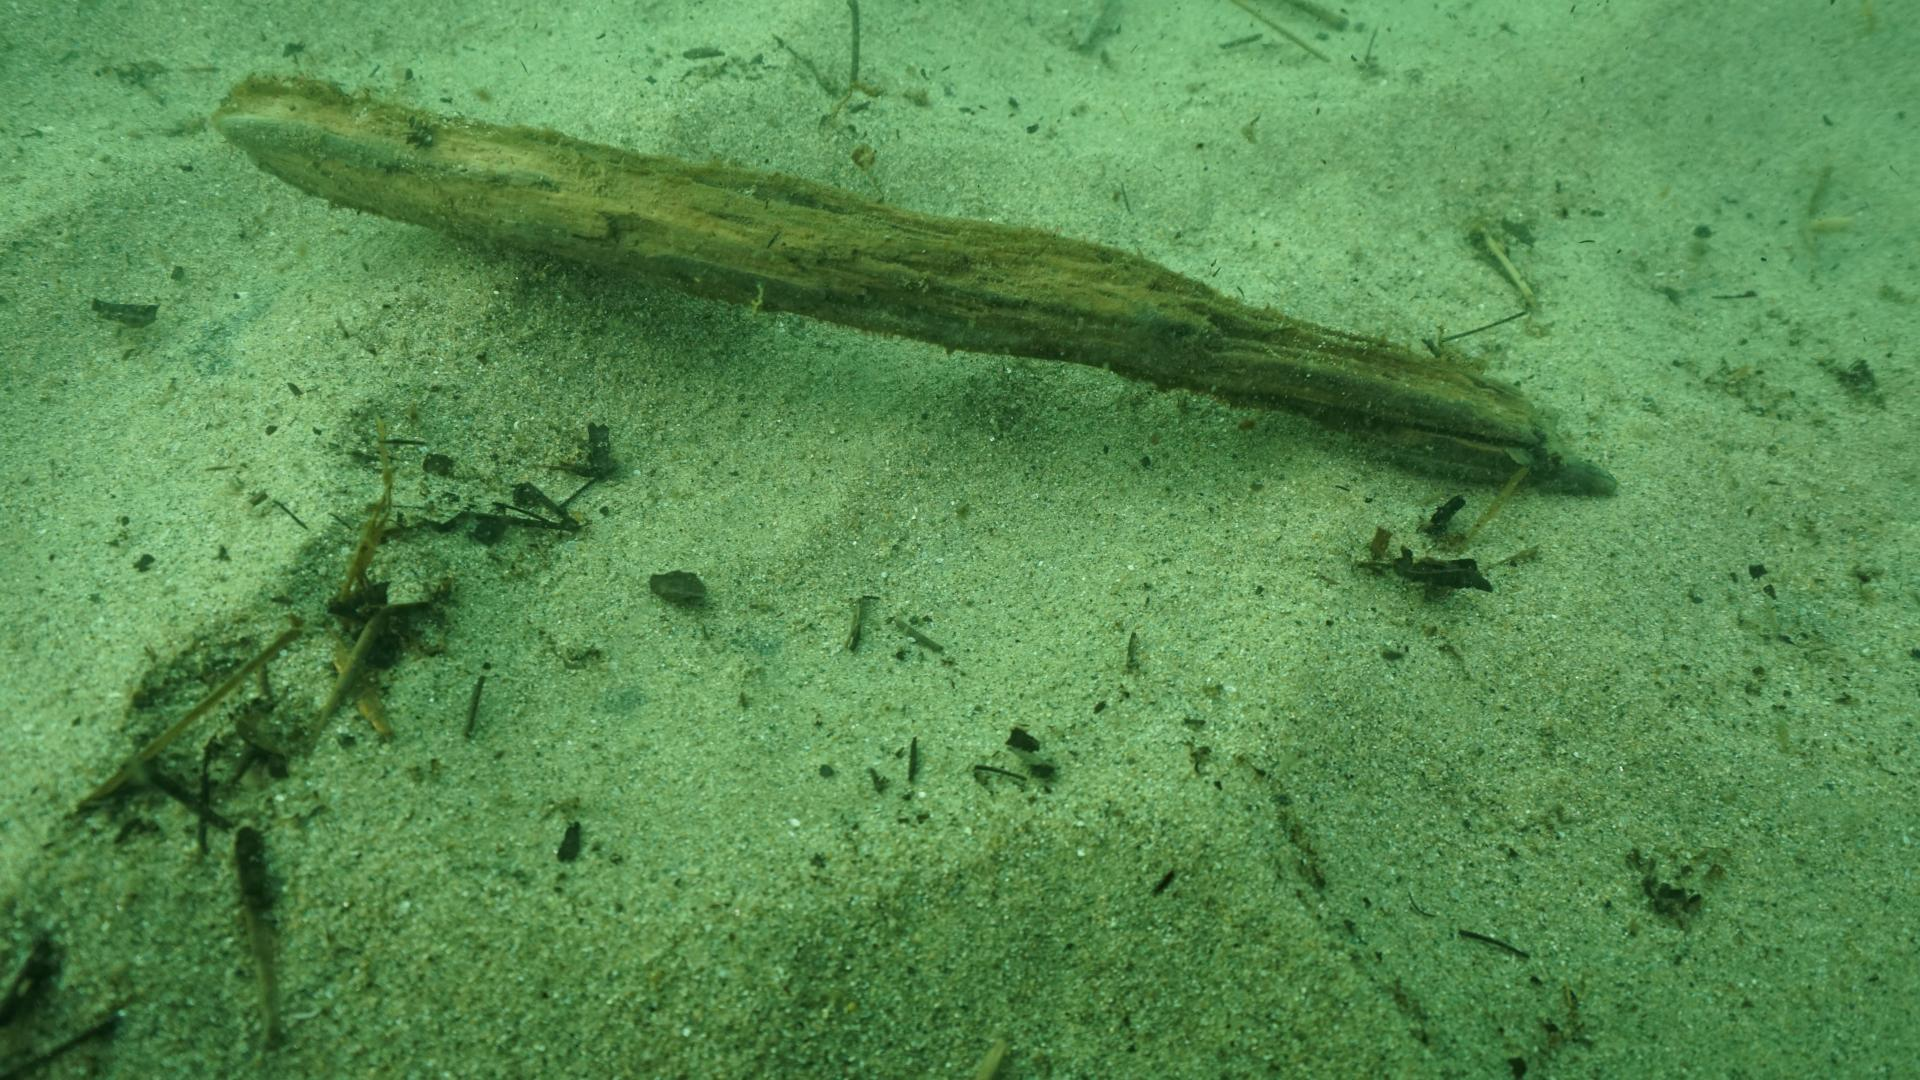wood: (210, 66, 1618, 498)
